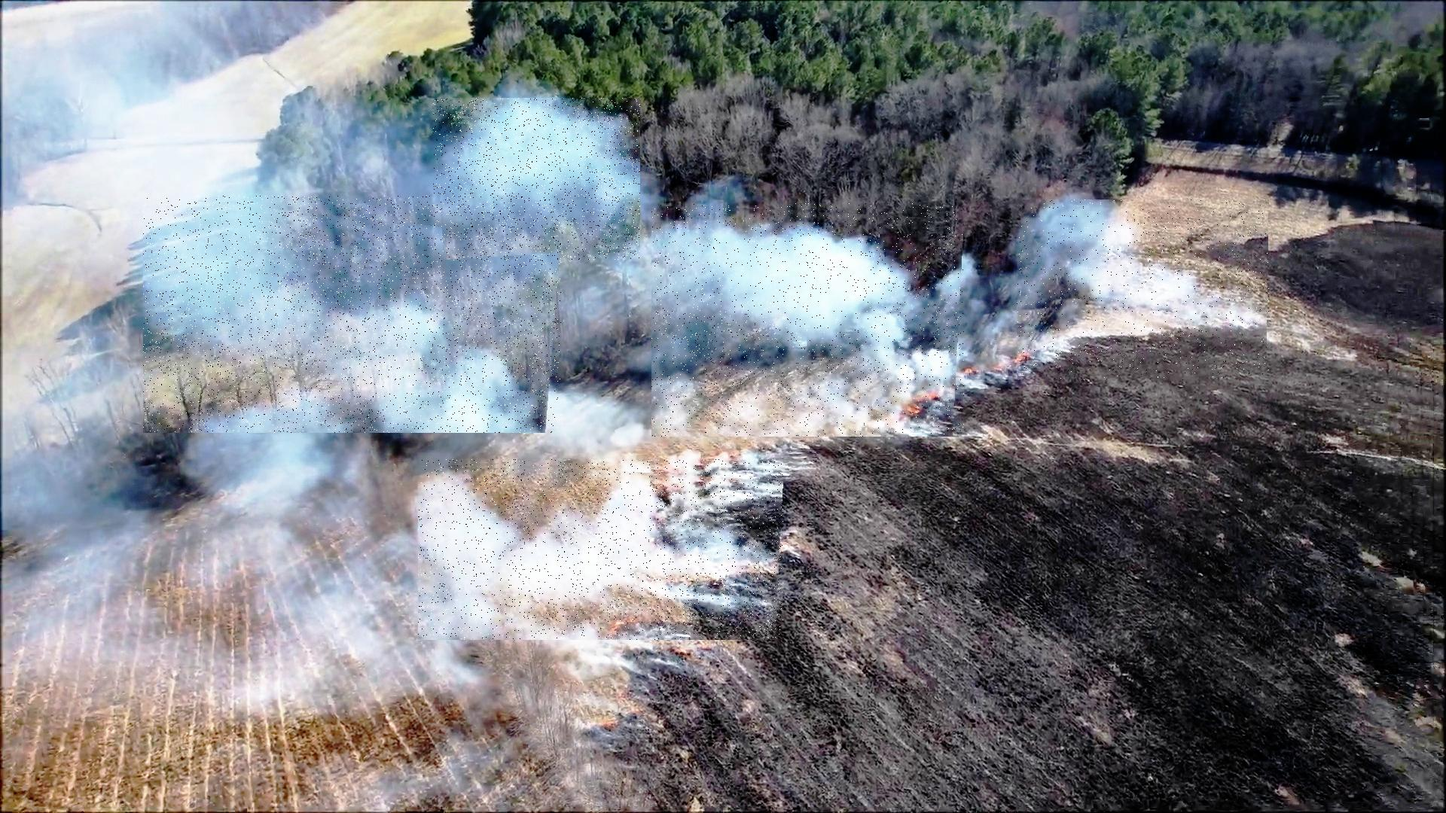smoke: (143, 196, 561, 433), (651, 203, 964, 437), (418, 459, 783, 640), (1017, 199, 1269, 380), (433, 98, 640, 260)
